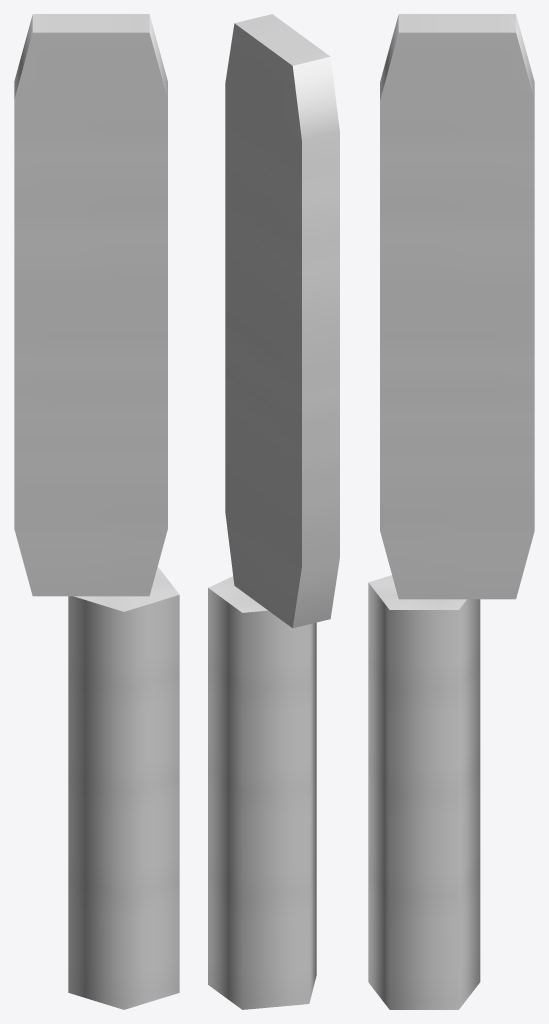
File: tool_knife.obj
3 views of the same model, side by side, from view 1: azimuth 90°, elevation 25°; view 2: azimuth 210°, elevation 25°; view 3: azimuth 270°, elevation 25° (orthographic).
Parts seen in each view (by area): view 1: source_component_01, source_component_00; view 2: source_component_01, source_component_00; view 3: source_component_01, source_component_00.
Part boxes in pixels (x1,y1,x2,y2): source_component_01: [14, 14, 167, 596]; source_component_00: [68, 567, 179, 1009]; source_component_01: [225, 14, 339, 628]; source_component_00: [208, 576, 316, 1009]; source_component_01: [380, 14, 534, 599]; source_component_00: [368, 575, 480, 1009].
Size of the model in its own units: 0.0289 by 0.29 by 0.0452.
